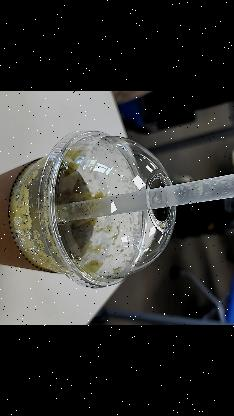Others: (0, 132, 176, 291), (40, 130, 176, 288), (48, 165, 234, 230)
